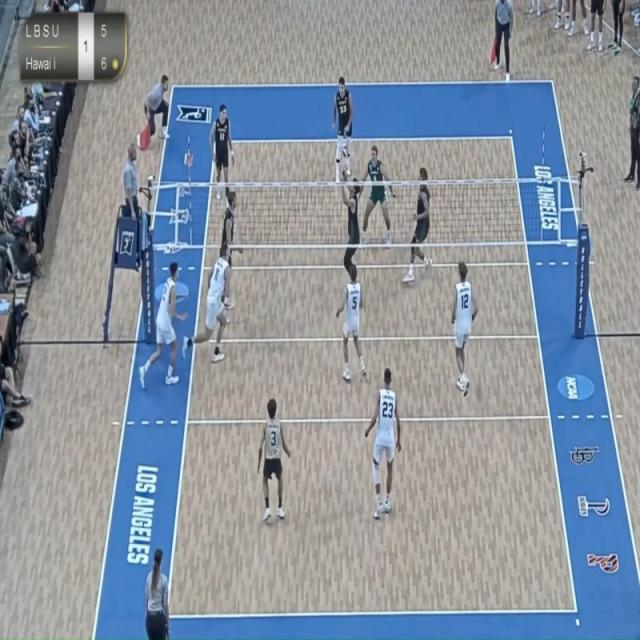volleyball: (337, 138, 351, 161)
